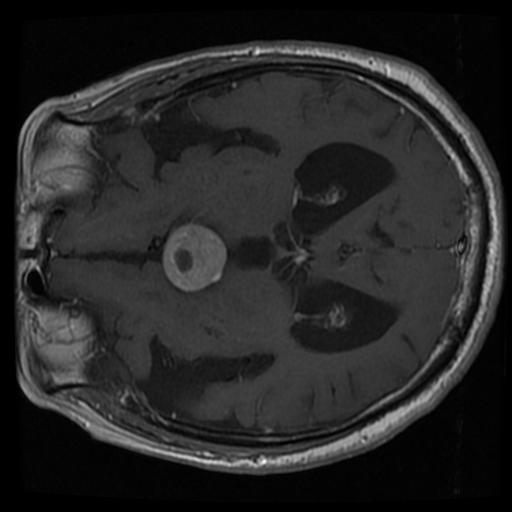pituitary tumour: (161, 223, 227, 293)
